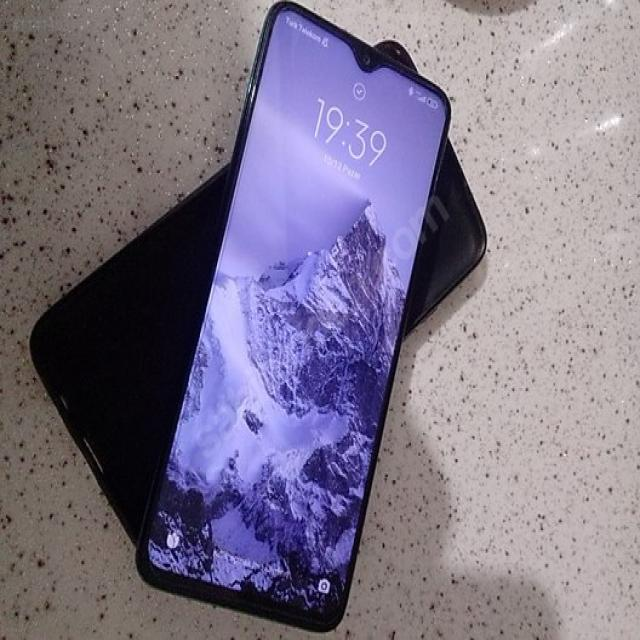Red Mi Note 8 Pro: (30, 2, 488, 635)
